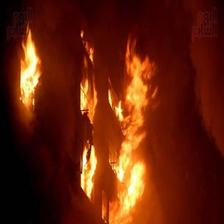fire: (73, 33, 158, 224), (10, 21, 56, 125)
